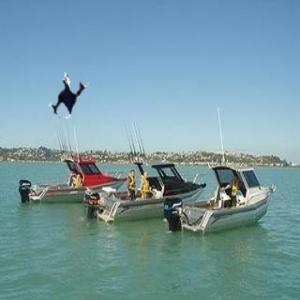drone: (34, 64, 100, 130)
